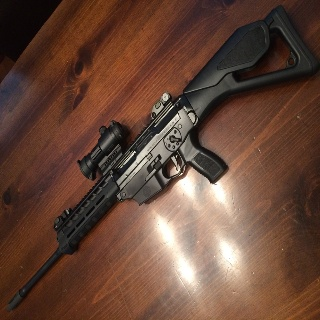rifle: (7, 8, 320, 320)
